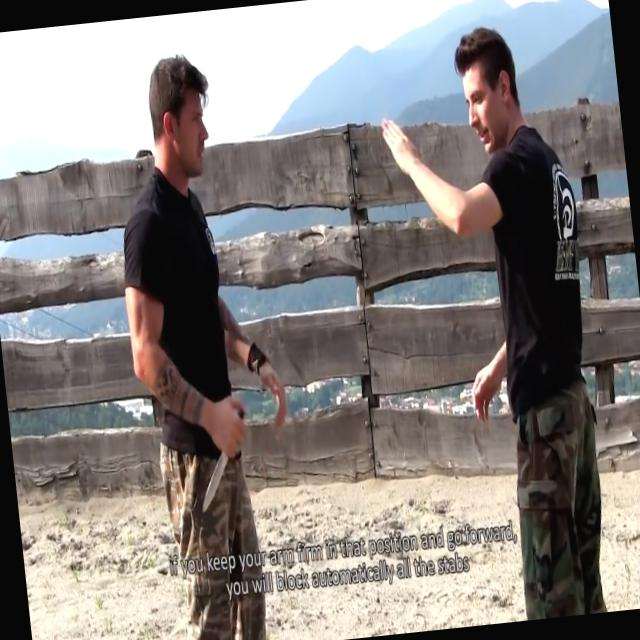knife: (187, 401, 260, 519)
